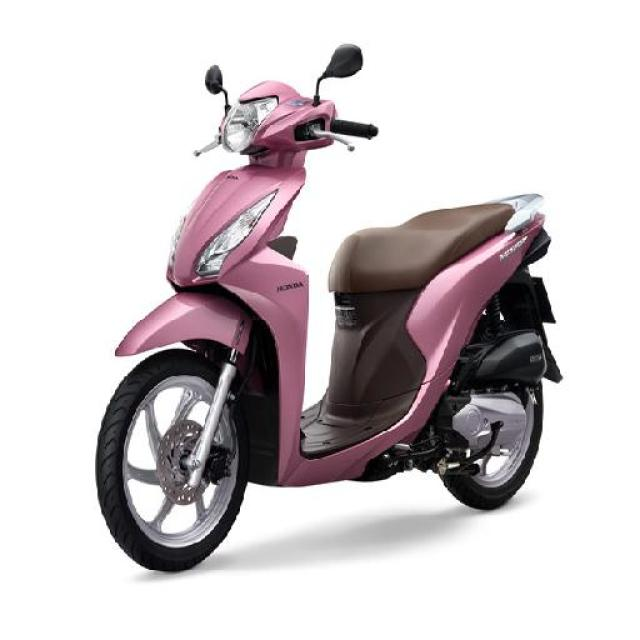All: (90, 79, 574, 572)
Head: (192, 82, 378, 168)
Tail: (478, 180, 554, 261)
